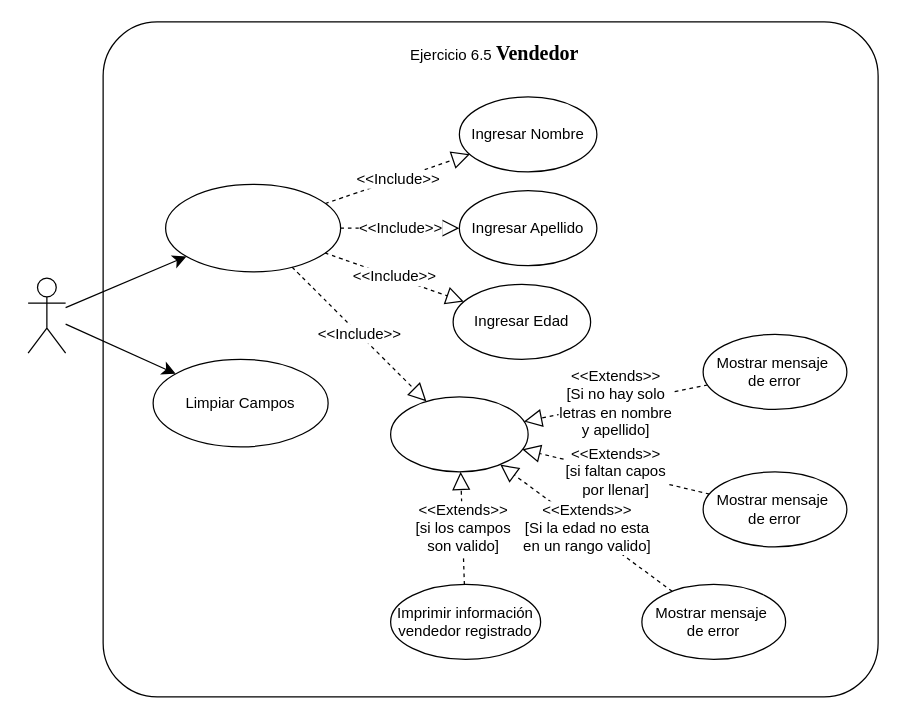
This 900x719 diagram has some shape labels left out. Each missing label, with the centre of its shape:
"Crear Vendedor" belongs at [252,227].
"Usuario" belongs at [46,315].
"Validar Campos" belongs at [458,434].
